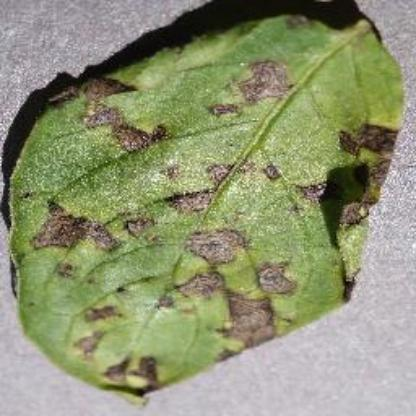Early-Blight: (6, 7, 398, 399)
